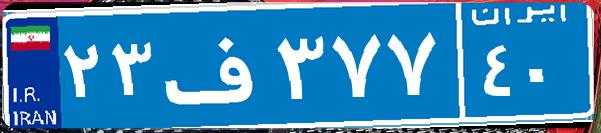0: (525, 38, 570, 115)
2: (57, 26, 110, 107)
3: (273, 28, 330, 110), (110, 28, 158, 105)
4: (475, 38, 525, 113)
7: (385, 28, 445, 110), (330, 28, 385, 110)
ف: (158, 15, 273, 115)
